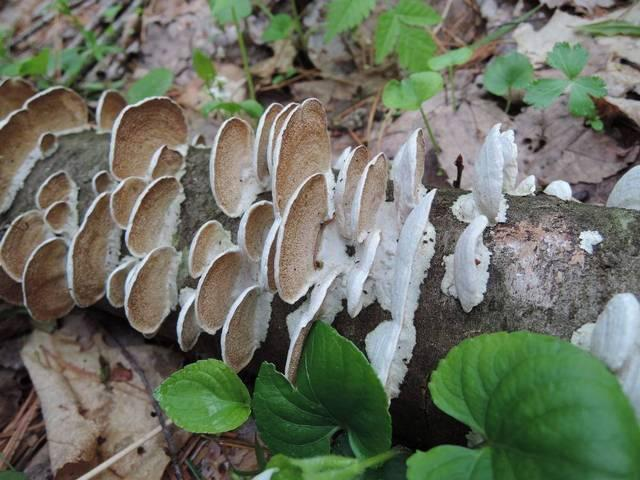Non-edible Mushroom: (0, 65, 571, 398)
